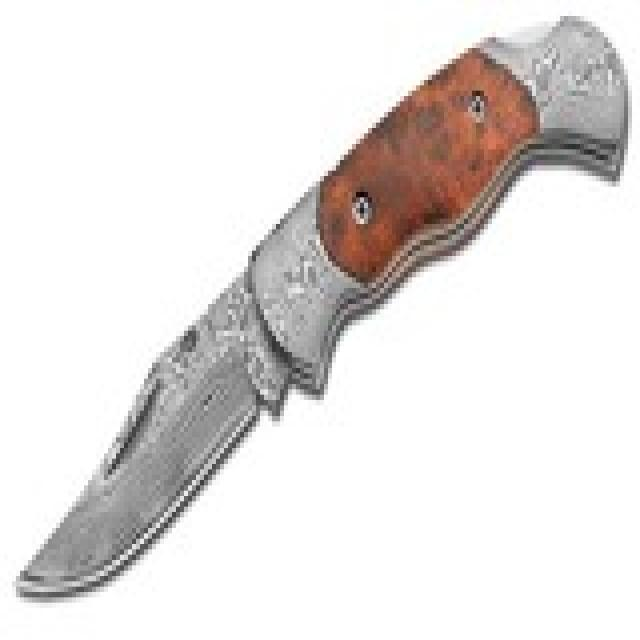Knife: (8, 26, 616, 604)
